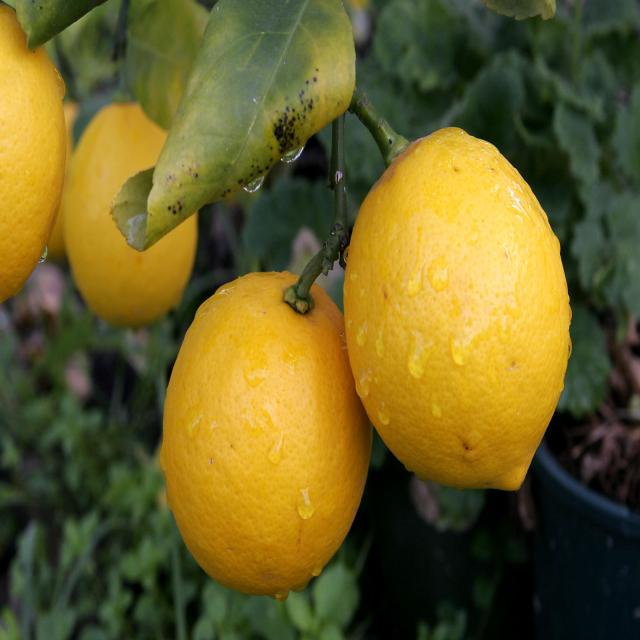lemon: (335, 120, 575, 508), (158, 247, 366, 590)
